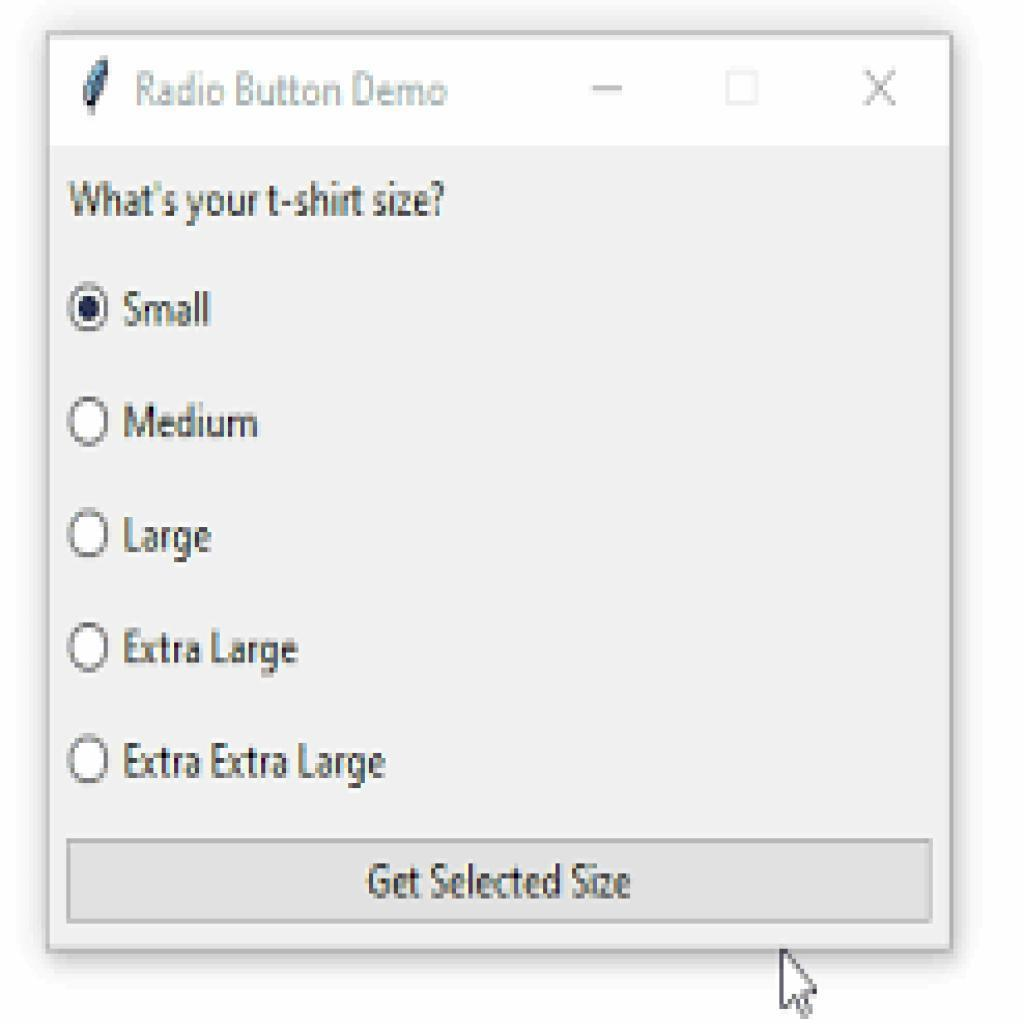button: (69, 841, 932, 923)
label: (57, 174, 449, 225), (123, 732, 388, 786), (123, 621, 301, 674), (126, 391, 266, 446), (115, 512, 218, 561), (124, 284, 219, 335)
radio: (67, 279, 114, 340), (68, 395, 117, 452), (64, 732, 112, 788), (70, 505, 115, 563), (69, 620, 113, 679)
